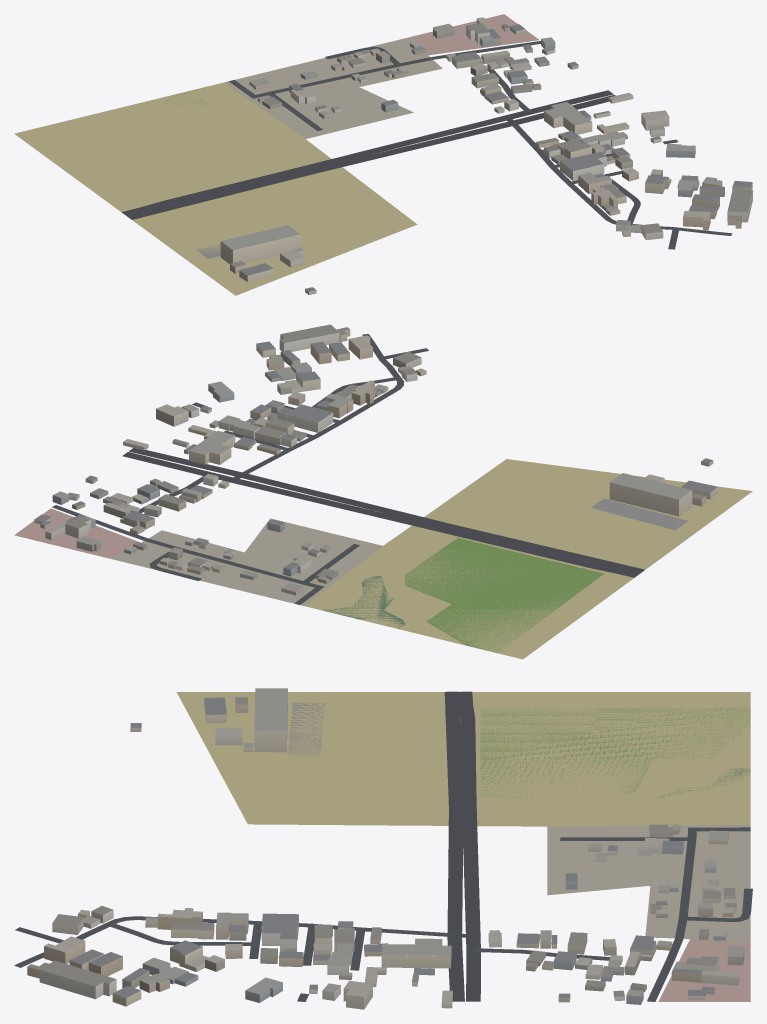
3 views of the same model, one above another, from view 1: azimuth 30°, elevation 25°; view 2: azimuth 150°, elevation 25°; view 3: azimuth 270°, elevation 25° (orthographic). The views are drawn at different scales.
Parts seen in each view (by area): view 1: landuse, buildings_walls, buildings_roofs, roads; view 2: landuse, buildings_walls, buildings_roofs, roads; view 3: landuse, buildings_roofs, buildings_walls, roads.
Part boxes in pixels (box(x1,y1,x2,y2)): landuse: box(14, 14, 539, 295); buildings_walls: box(220, 19, 752, 294); buildings_roofs: box(221, 17, 752, 291); roads: box(121, 41, 732, 249); landuse: box(14, 459, 752, 659); buildings_walls: box(34, 329, 717, 595); buildings_roofs: box(34, 324, 717, 591); roads: box(52, 334, 644, 604); landuse: box(176, 692, 750, 1001); buildings_roofs: box(27, 688, 744, 1003); buildings_walls: box(27, 692, 744, 1009); roads: box(14, 691, 752, 1001).
Size of the model in its own units: 513 by 15.99 by 504.
